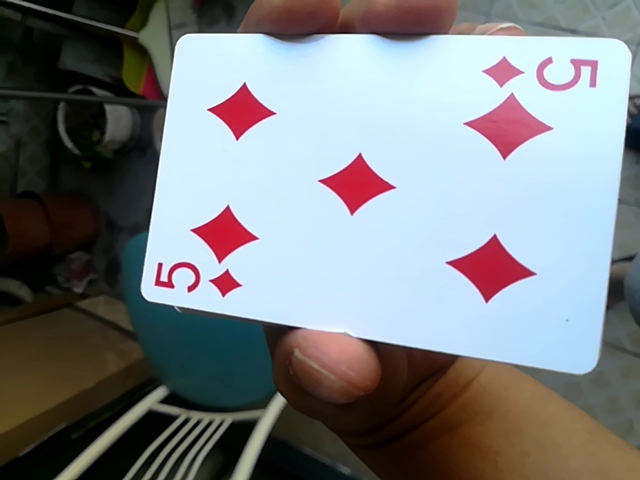fk 5: (140, 31, 640, 368)
